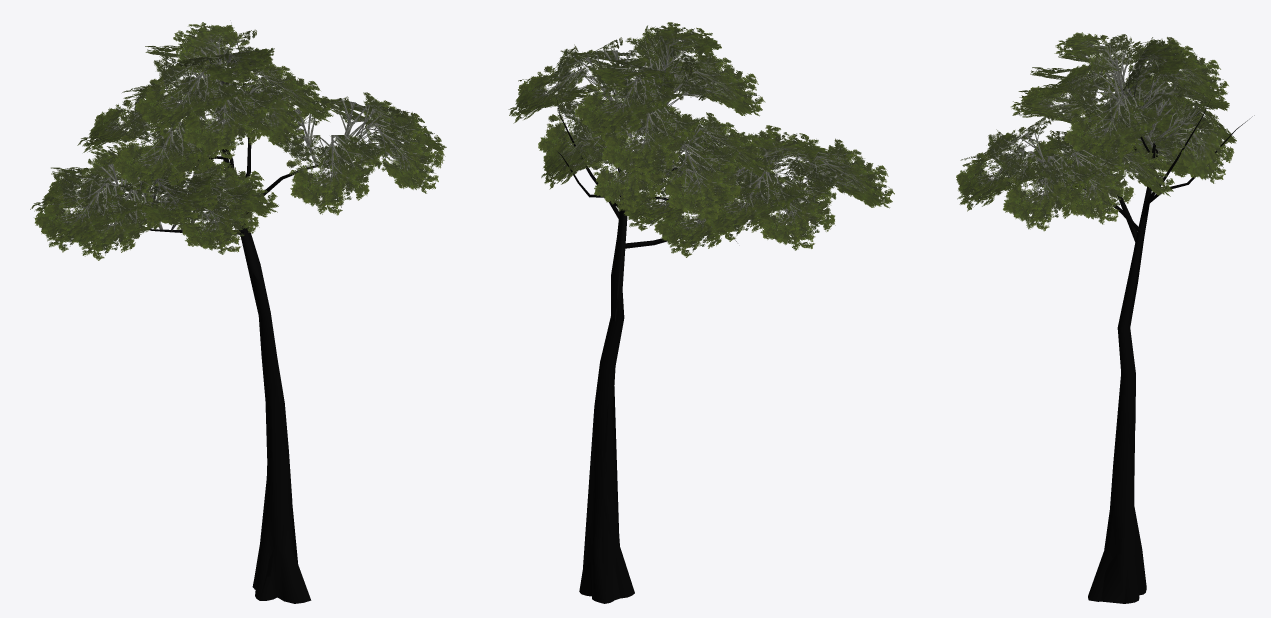
Rendered from umbreallAcacia_02.DAE.
The picture shows the model from 3 angles, left to right: view 1: azimuth 30°, elevation 25°; view 2: azimuth 150°, elevation 25°; view 3: azimuth 270°, elevation 25°; orthographic projection. The views are drawn at different scales.
Parts seen in each view (by area): view 1: UnbrellaAcaciaTwo64, UnbrellaAcaciaTwo256, UnbrellaAcaciaTwo128; view 2: UnbrellaAcaciaTwo64, UnbrellaAcaciaTwo256, UnbrellaAcaciaTwo128; view 3: UnbrellaAcaciaTwo64, UnbrellaAcaciaTwo256, UnbrellaAcaciaTwo128.
Boxes of the visible parts, x1,y1,x2,y2 form: UnbrellaAcaciaTwo64: [30, 22, 446, 589]; UnbrellaAcaciaTwo256: [34, 25, 444, 603]; UnbrellaAcaciaTwo128: [114, 32, 406, 598]; UnbrellaAcaciaTwo64: [508, 22, 894, 602]; UnbrellaAcaciaTwo256: [511, 26, 892, 603]; UnbrellaAcaciaTwo128: [575, 40, 811, 598]; UnbrellaAcaciaTwo64: [957, 34, 1235, 603]; UnbrellaAcaciaTwo256: [956, 32, 1254, 603]; UnbrellaAcaciaTwo128: [997, 38, 1206, 570].
Size of what is drawn, in the model's own units: 4.48 by 3.24 by 5.92.
